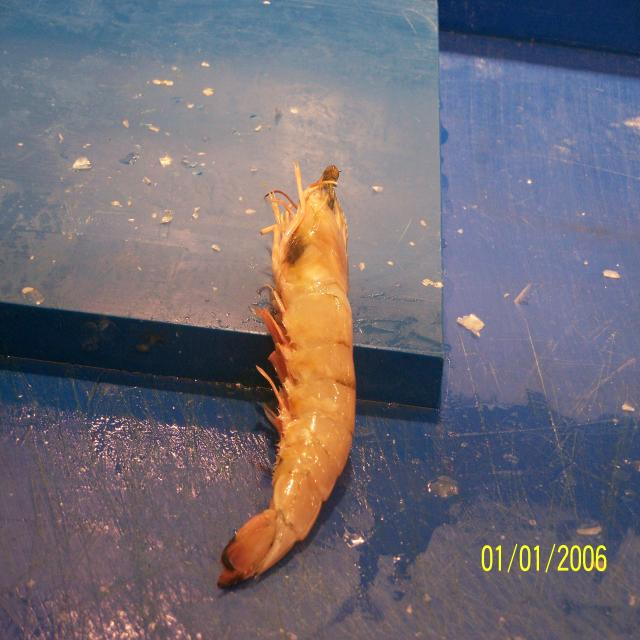Shrimp-karides-: (217, 167, 357, 590)
